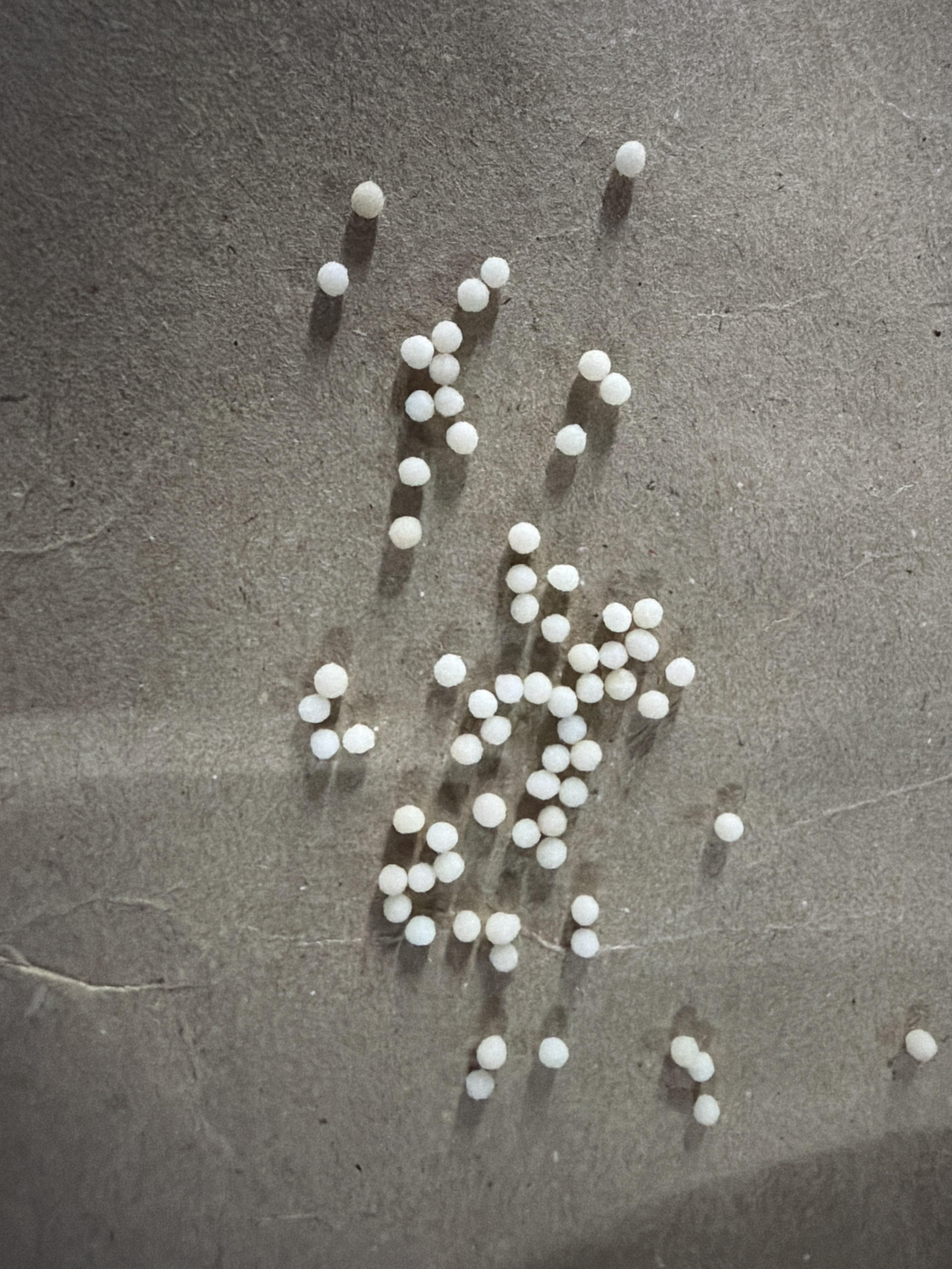pill: (351, 181, 385, 219), (314, 662, 348, 699), (472, 792, 506, 828), (614, 140, 646, 178), (485, 911, 520, 945), (625, 628, 659, 662), (400, 335, 434, 369), (525, 769, 561, 801), (317, 261, 349, 297), (388, 516, 422, 549), (599, 372, 632, 406), (445, 421, 478, 455), (476, 1035, 507, 1071), (905, 1029, 938, 1062), (570, 739, 603, 772), (432, 850, 465, 883), (508, 522, 541, 555), (604, 669, 637, 701), (426, 821, 458, 854), (450, 733, 483, 765), (434, 654, 466, 687), (578, 350, 611, 382), (457, 279, 489, 312), (538, 1036, 569, 1069), (536, 837, 567, 870), (536, 805, 567, 838), (431, 320, 462, 353), (404, 915, 436, 946), (480, 714, 512, 745), (555, 424, 586, 456), (433, 386, 464, 418), (429, 354, 460, 386), (465, 1068, 495, 1101), (392, 804, 425, 834), (298, 694, 331, 724), (405, 389, 435, 422), (670, 1035, 699, 1069), (713, 812, 744, 843), (632, 598, 663, 629), (506, 563, 537, 594), (637, 690, 669, 720), (558, 776, 588, 808), (547, 686, 577, 718), (567, 644, 599, 674), (378, 864, 408, 896), (480, 257, 510, 289), (452, 910, 481, 943), (342, 725, 375, 754), (398, 458, 431, 487), (602, 602, 632, 633), (382, 893, 412, 924), (523, 672, 552, 704), (547, 564, 580, 592), (665, 657, 695, 687), (540, 613, 570, 643), (468, 689, 498, 719), (570, 927, 599, 958), (512, 818, 541, 849), (407, 862, 436, 893), (310, 729, 339, 760), (687, 1051, 715, 1083), (571, 895, 599, 927), (488, 944, 518, 973), (557, 715, 586, 745), (575, 673, 604, 703), (599, 640, 628, 670), (494, 674, 523, 704), (510, 594, 539, 624), (693, 1094, 720, 1126), (541, 744, 570, 773)
